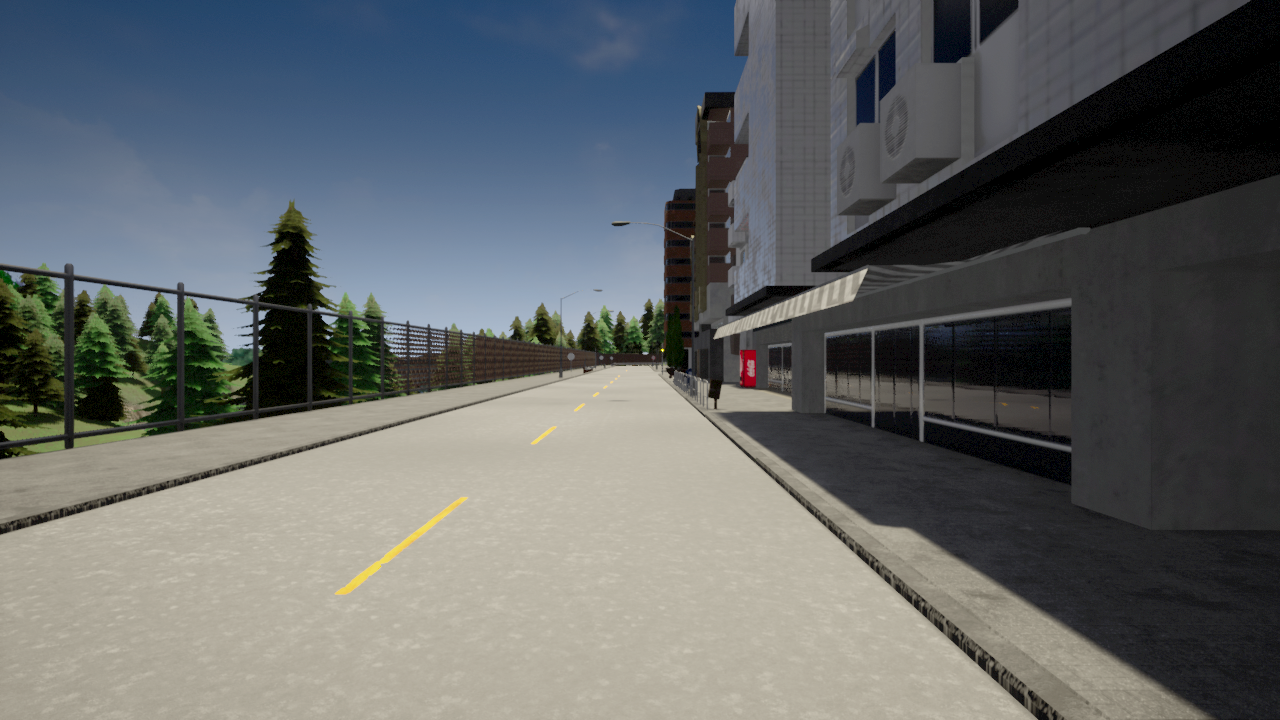yellow: (660, 345, 665, 356)
